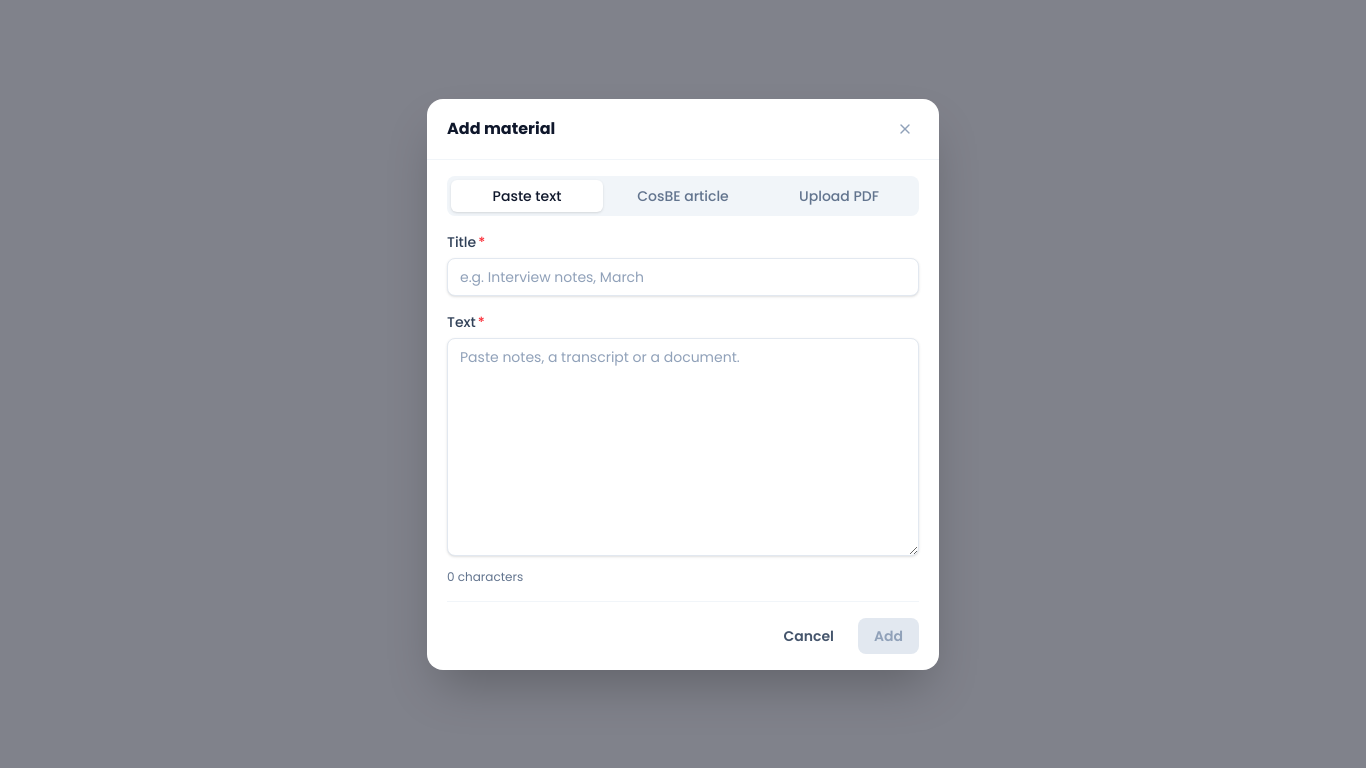
Test: AddSourceDialog › recovers when the action throws
Type "メモ" into the field labelled "Title". click: (683, 276)
box: [447,258,919,296]
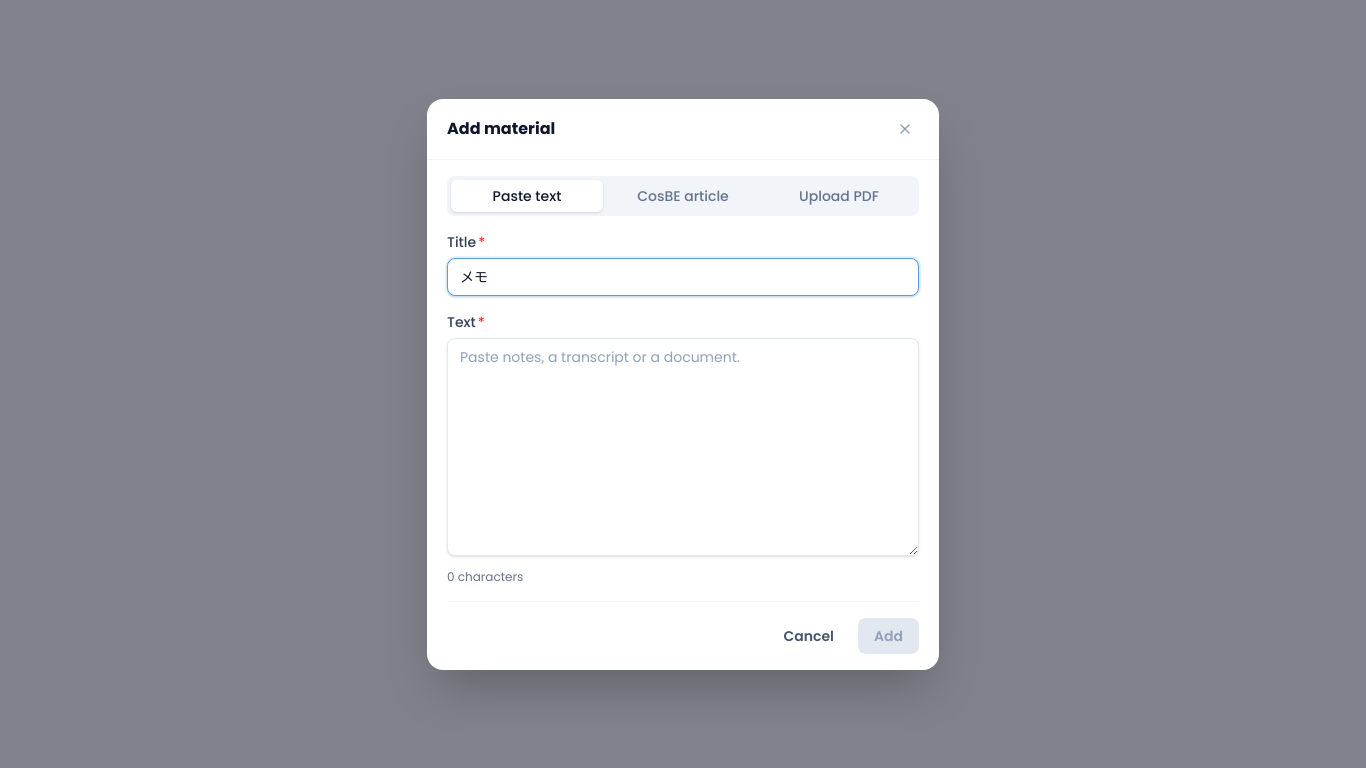
Type "本文です" into the text box labelled "Text". click: (683, 446)
box: [447,338,919,556]
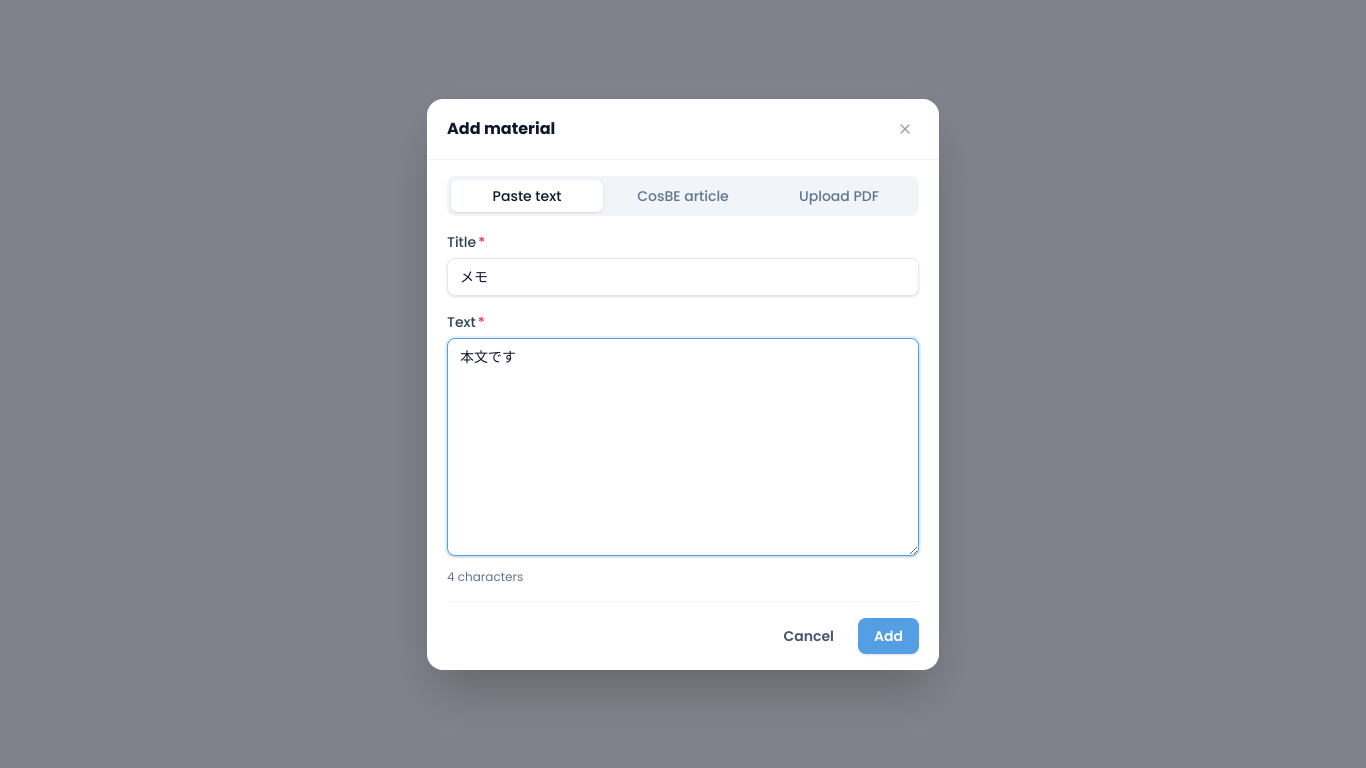
Click the button "Add". click: (888, 636)
box: [858,618,919,654]
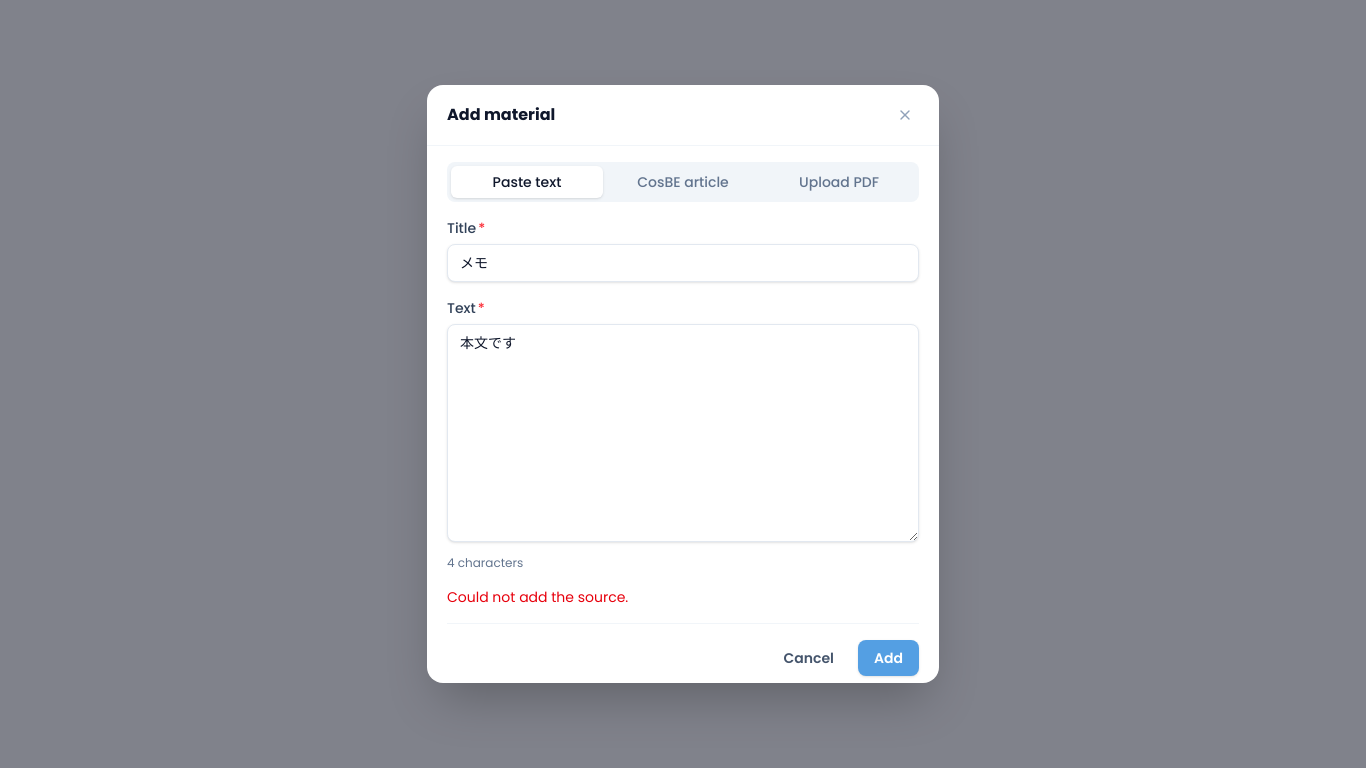
Now the button "Add" is enabled, box [858,640,919,676]
Now the message "Could not add the source." is shown, box [447,587,628,607]
